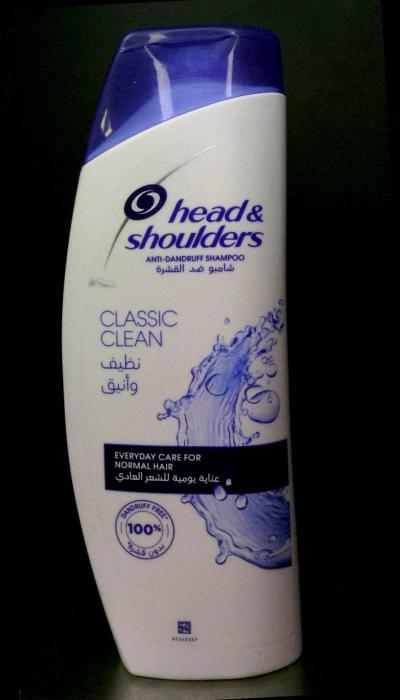tear_unacc: (77, 262, 130, 302)
